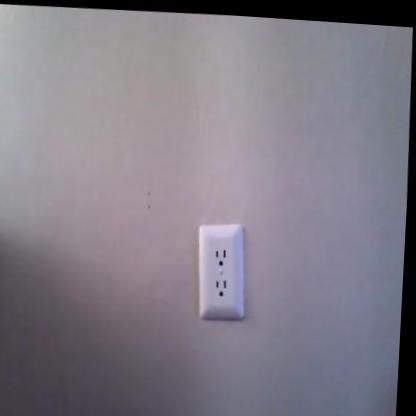OUTLET: (194, 220, 247, 318)
